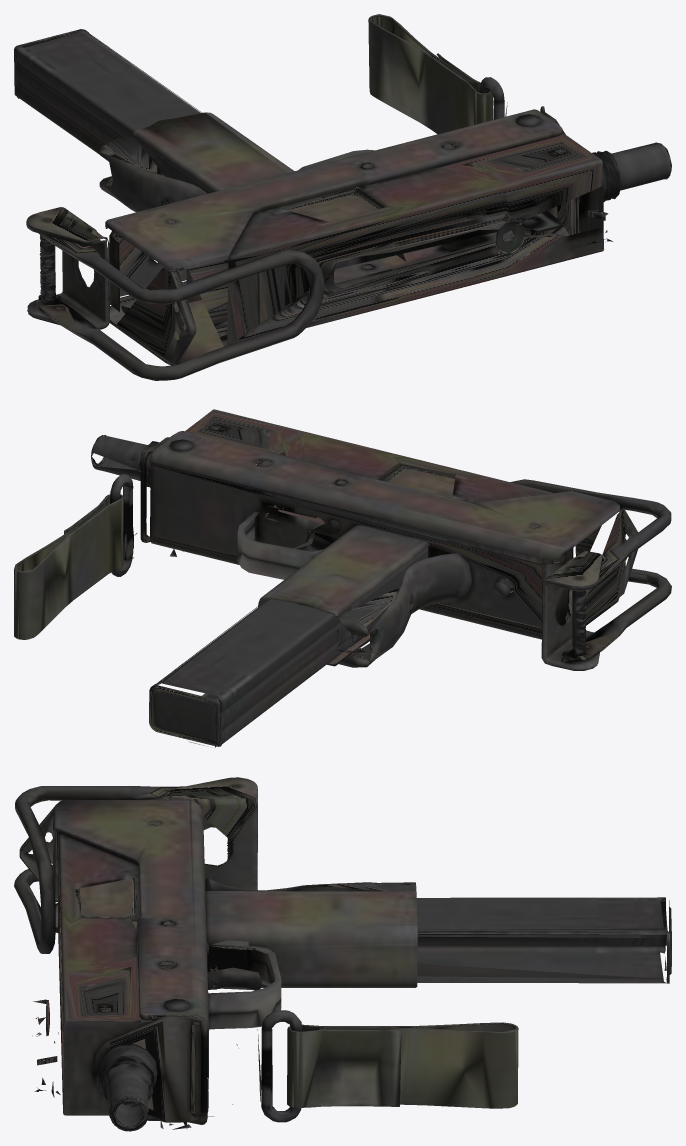
File: w_mac10.glb
The picture shows the model from 3 angles, top to bottom: view 1: azimuth 30°, elevation 25°; view 2: azimuth 150°, elevation 25°; view 3: azimuth 270°, elevation 25°; orthographic projection. The views are drawn at different scales.
Visible parts, largest first — view 1: w_mac10; view 2: w_mac10; view 3: w_mac10.
Boxes of the visible parts, x1,y1,x2,y2 form: w_mac10: (14, 14, 671, 380); w_mac10: (14, 409, 671, 747); w_mac10: (14, 777, 671, 1131).
Size of the model in its own units: 0.4075 by 0.0776 by 0.3831.
Materials: 1 (1 with a texture image).
